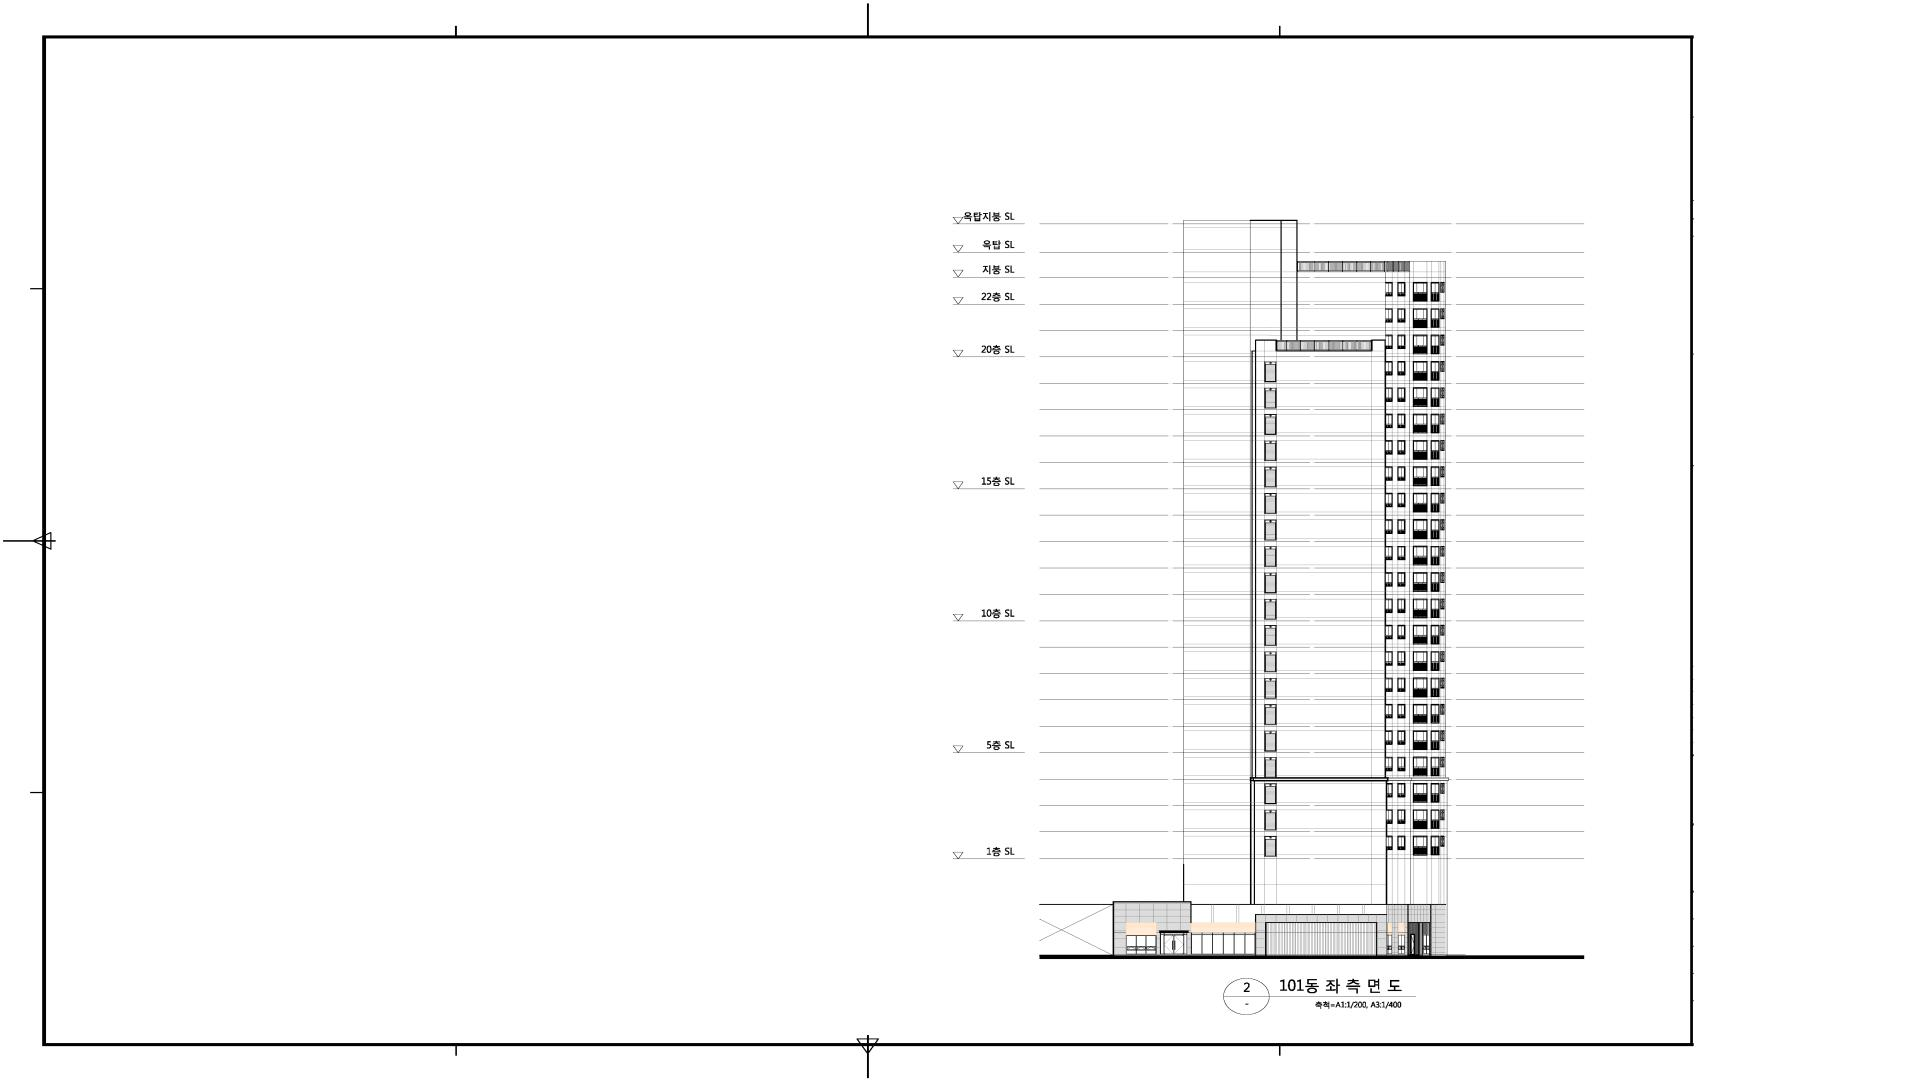door: (1160, 930, 1187, 955), (1410, 934, 1415, 955)
wall: (1039, 220, 1449, 960)
window: (1126, 935, 1156, 955), (1412, 282, 1428, 302), (1412, 309, 1428, 328), (1412, 361, 1428, 381), (1412, 388, 1428, 407), (1412, 414, 1428, 434), (1412, 440, 1428, 460), (1412, 467, 1428, 487), (1412, 520, 1428, 539), (1412, 546, 1428, 566), (1412, 572, 1428, 592), (1412, 599, 1428, 618), (1412, 625, 1428, 645), (1412, 651, 1428, 671), (1412, 678, 1428, 698), (1412, 731, 1428, 750), (1412, 757, 1428, 777), (1412, 783, 1428, 803), (1412, 810, 1428, 829), (1412, 836, 1428, 856), (1412, 335, 1427, 355), (1412, 493, 1427, 513), (1412, 704, 1427, 724), (1265, 361, 1276, 382), (1265, 388, 1276, 409), (1265, 414, 1276, 435), (1265, 440, 1276, 462), (1265, 467, 1276, 488), (1265, 493, 1276, 514), (1265, 520, 1276, 541), (1265, 546, 1276, 567), (1265, 572, 1276, 593), (1265, 599, 1276, 620), (1265, 625, 1276, 646), (1265, 651, 1276, 673), (1265, 678, 1276, 699), (1265, 704, 1276, 725), (1265, 731, 1276, 752), (1265, 757, 1276, 778), (1265, 783, 1276, 804), (1265, 810, 1276, 831), (1265, 836, 1276, 857), (1431, 282, 1440, 302), (1431, 335, 1440, 355), (1431, 361, 1440, 381), (1431, 388, 1440, 407), (1431, 414, 1440, 434), (1431, 440, 1440, 460), (1431, 467, 1440, 487), (1431, 493, 1440, 513), (1431, 520, 1440, 539), (1431, 546, 1440, 566), (1431, 572, 1440, 592), (1431, 599, 1440, 618), (1431, 625, 1440, 645), (1431, 651, 1440, 671), (1431, 678, 1440, 698), (1431, 704, 1440, 724), (1429, 731, 1439, 750), (1431, 783, 1440, 803), (1431, 810, 1440, 829), (1431, 836, 1440, 856), (1431, 309, 1439, 328), (1431, 757, 1439, 777), (1386, 935, 1393, 955), (1423, 935, 1429, 955), (1398, 935, 1404, 953), (1398, 335, 1406, 349), (1398, 361, 1406, 376), (1398, 388, 1406, 402), (1398, 414, 1406, 429), (1398, 440, 1406, 455), (1398, 467, 1406, 481), (1398, 493, 1406, 508), (1398, 520, 1406, 534), (1398, 546, 1406, 560), (1398, 572, 1406, 587), (1398, 599, 1406, 613), (1398, 625, 1406, 640), (1398, 651, 1406, 666), (1398, 678, 1406, 692), (1398, 704, 1406, 719), (1398, 731, 1406, 745), (1398, 757, 1406, 771), (1398, 783, 1406, 798), (1398, 810, 1406, 824), (1398, 836, 1406, 851), (1385, 282, 1393, 297), (1385, 309, 1393, 323), (1385, 335, 1393, 349), (1385, 361, 1393, 376), (1385, 388, 1393, 402), (1385, 414, 1393, 429), (1385, 440, 1393, 455), (1385, 467, 1393, 481), (1385, 493, 1393, 508), (1385, 520, 1393, 534), (1385, 546, 1393, 560), (1385, 572, 1393, 587), (1385, 599, 1393, 613), (1385, 625, 1393, 640), (1385, 651, 1393, 666), (1385, 678, 1393, 692), (1385, 704, 1393, 719), (1385, 731, 1393, 745), (1385, 757, 1393, 771), (1398, 282, 1406, 297), (1398, 309, 1406, 323), (1386, 783, 1393, 798), (1386, 810, 1393, 824), (1386, 836, 1393, 851), (1440, 282, 1445, 293), (1440, 309, 1445, 319), (1440, 440, 1445, 451), (1440, 467, 1445, 477), (1440, 493, 1445, 504), (1440, 546, 1445, 556), (1440, 572, 1445, 583), (1440, 625, 1445, 636), (1440, 651, 1445, 662), (1440, 678, 1445, 688), (1440, 731, 1445, 741), (1440, 757, 1445, 767), (1440, 783, 1445, 794), (1440, 810, 1445, 820), (1440, 836, 1445, 847), (1440, 335, 1444, 345), (1440, 361, 1444, 372), (1440, 388, 1444, 398), (1440, 414, 1444, 425), (1440, 520, 1444, 530), (1440, 599, 1444, 609), (1440, 704, 1444, 715)
